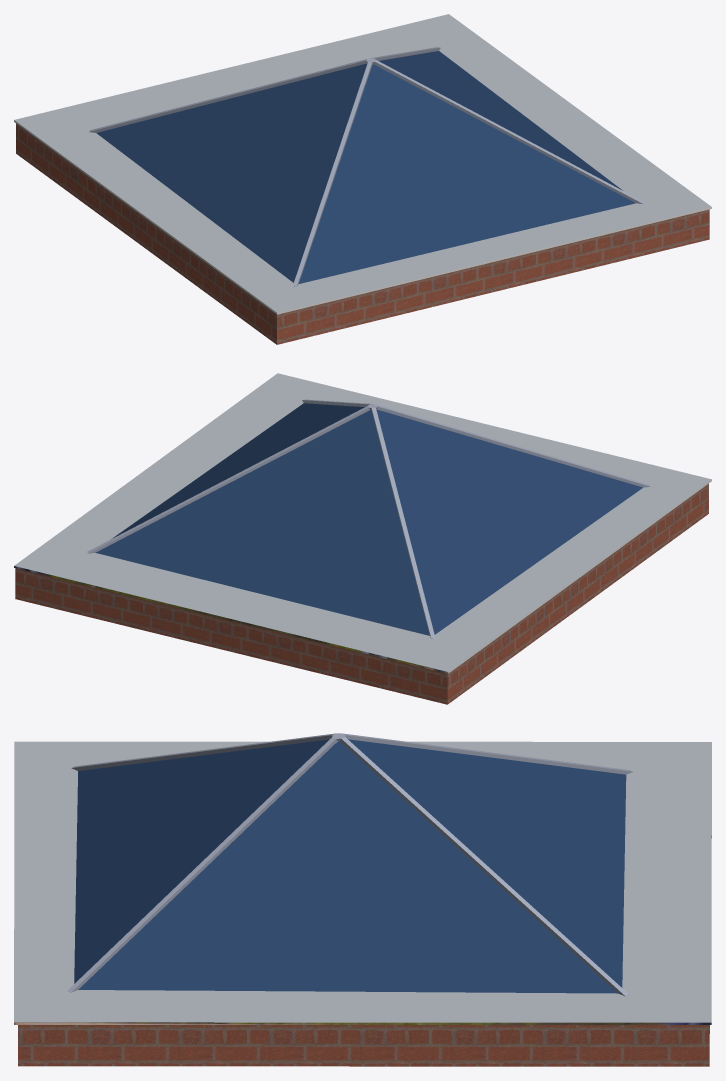
Rendered from piramit.fbx.
3 views of the same model, one above another, from view 1: azimuth 30°, elevation 25°; view 2: azimuth 150°, elevation 25°; view 3: azimuth 270°, elevation 25° (orthographic). The views are drawn at different scales.
Parts seen in each view (by area): view 1: Pyramid; view 2: Pyramid; view 3: Pyramid.
Part boxes in pixels (left/top/right/bottom): Pyramid: left=14, top=14, right=711, bottom=344; Pyramid: left=14, top=373, right=711, bottom=704; Pyramid: left=14, top=733, right=711, bottom=1066.
Size of the model in its own units: 1161 by 366 by 1218.
Materials: 5 (2 with a texture image).
